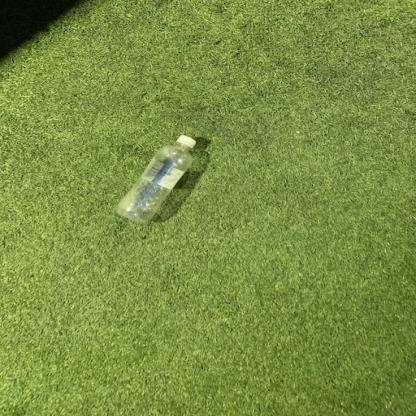trash: (113, 134, 197, 230)
